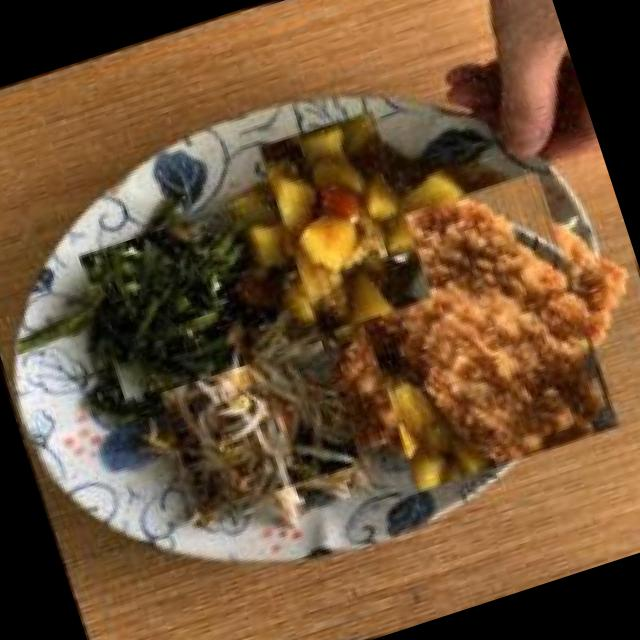curry: (230, 110, 457, 336)
fried_chicken: (305, 159, 640, 503)
mung_bean_sprouts: (146, 323, 372, 530)
water_spinach: (60, 217, 248, 406)
